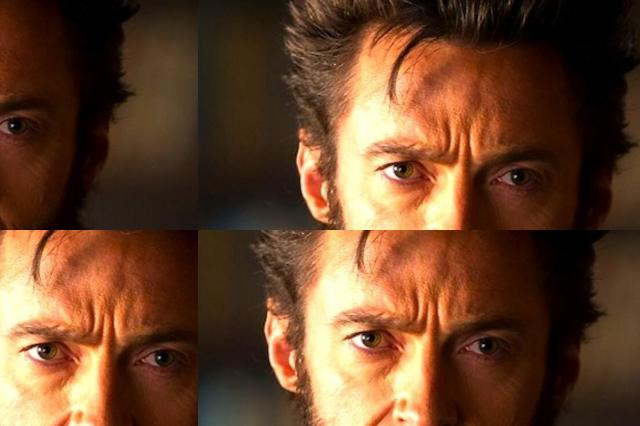crows_feet: (181, 58, 198, 87), (36, 67, 58, 89)
forehead: (88, 1, 130, 19), (139, 0, 172, 18)
frown_line: (412, 292, 444, 338)
gummy_smile: (138, 108, 164, 146), (358, 403, 390, 426), (70, 107, 88, 133), (268, 14, 282, 26), (250, 25, 254, 32)
sad_smile: (280, 27, 286, 35)
